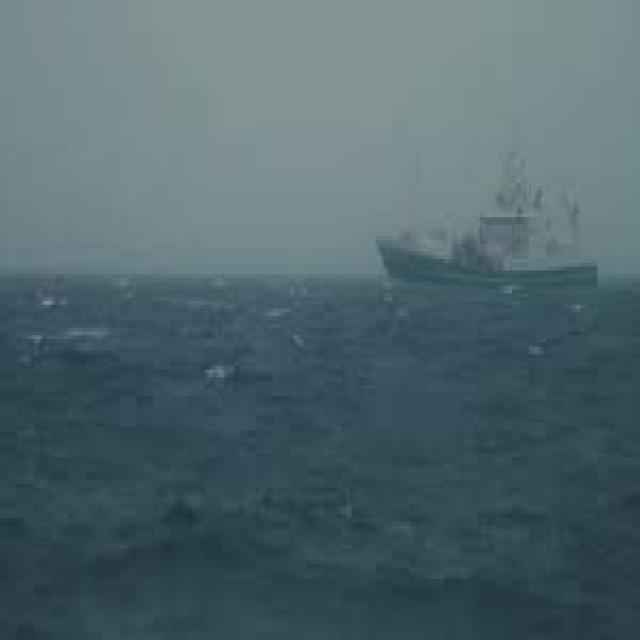fishing boat: (378, 141, 611, 293)
